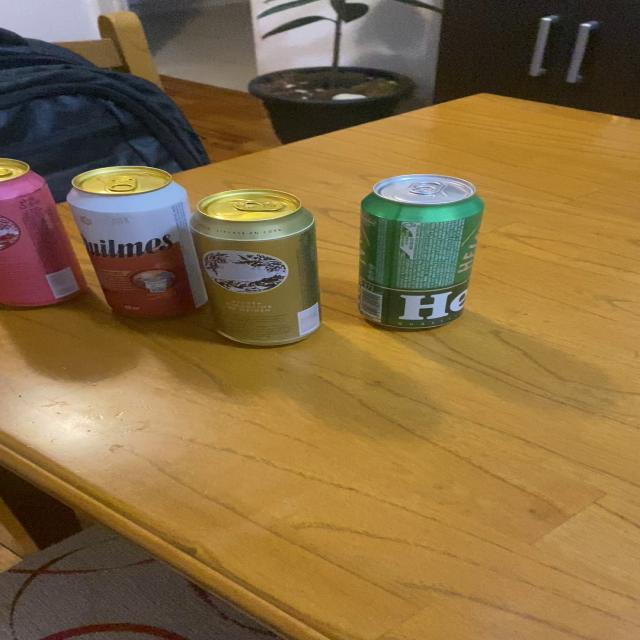metal: (66, 166, 208, 317), (188, 189, 323, 346), (356, 174, 485, 329), (0, 158, 90, 307)
